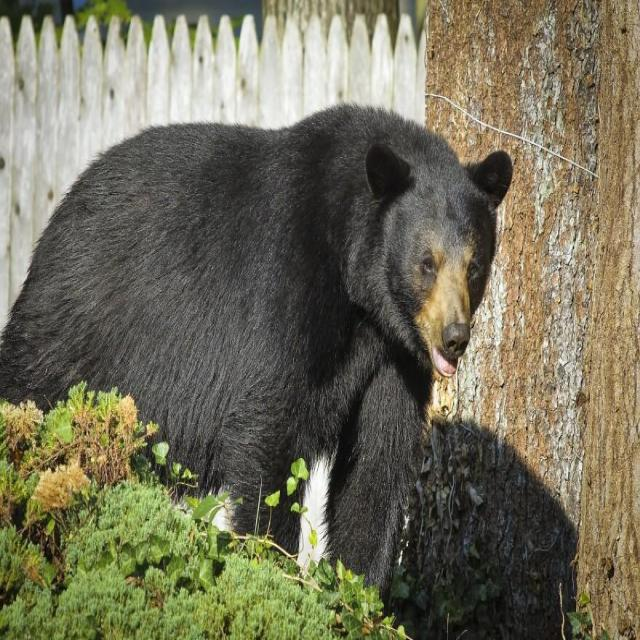Bear: (0, 105, 514, 596)
